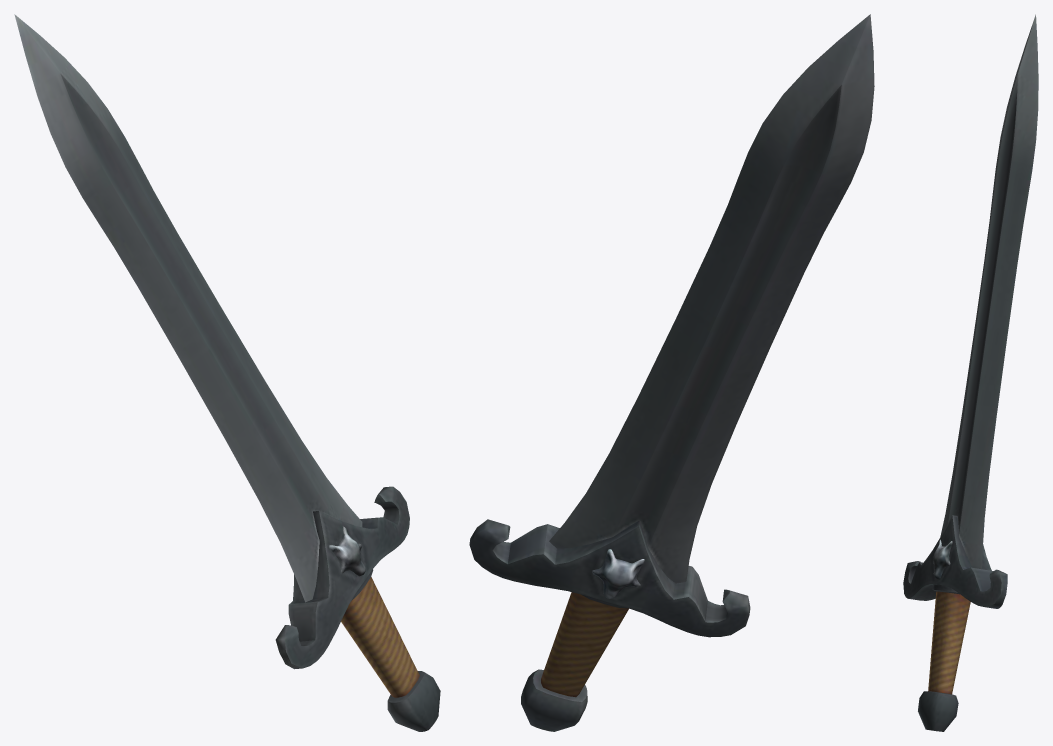
3 renders of one model, left to right at view 1: azimuth 30°, elevation 25°; view 2: azimuth 150°, elevation 25°; view 3: azimuth 270°, elevation 25°, orthographic. The views are drawn at different scales.
Parts seen in each view (by area): view 1: Espada; view 2: Espada; view 3: Espada.
Part boxes in pixels (bbox=[...]): Espada: bbox=[14, 14, 440, 731]; Espada: bbox=[469, 14, 874, 731]; Espada: bbox=[903, 14, 1038, 731].
Size of the model in its own units: 0.6313 by 1.23 by 0.2561.
